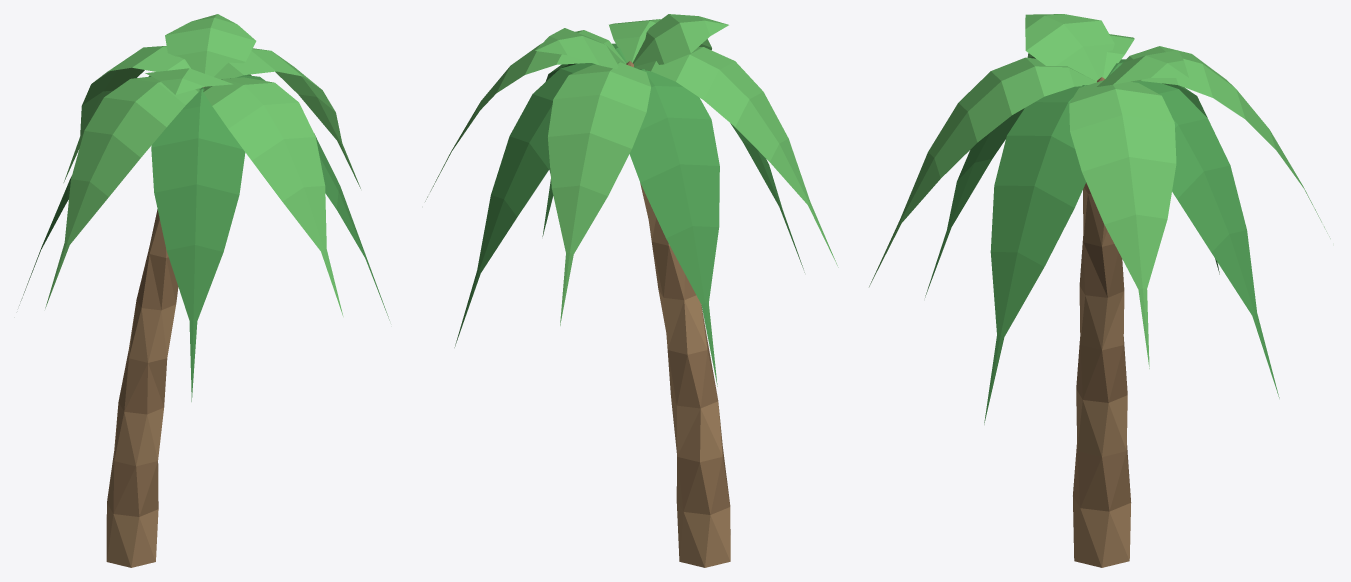
The model's file is palm_tree.fbx.
The picture shows the model from 3 angles, left to right: view 1: azimuth 30°, elevation 25°; view 2: azimuth 150°, elevation 25°; view 3: azimuth 270°, elevation 25°; orthographic projection. The views are drawn at different scales.
Parts seen in each view (by area): view 1: PalmTree; view 2: PalmTree; view 3: PalmTree.
Boxes of the visible parts, x1=… form: PalmTree: x1=19, y1=14, x2=389, y2=567; PalmTree: x1=425, y1=14, x2=838, y2=567; PalmTree: x1=869, y1=14, x2=1330, y2=567.
Size of the model in its own units: 10.98 by 14.28 by 10.98.
